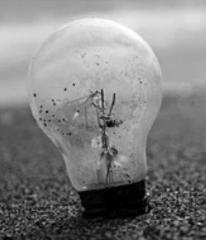lightbulb: (26, 16, 164, 214)
